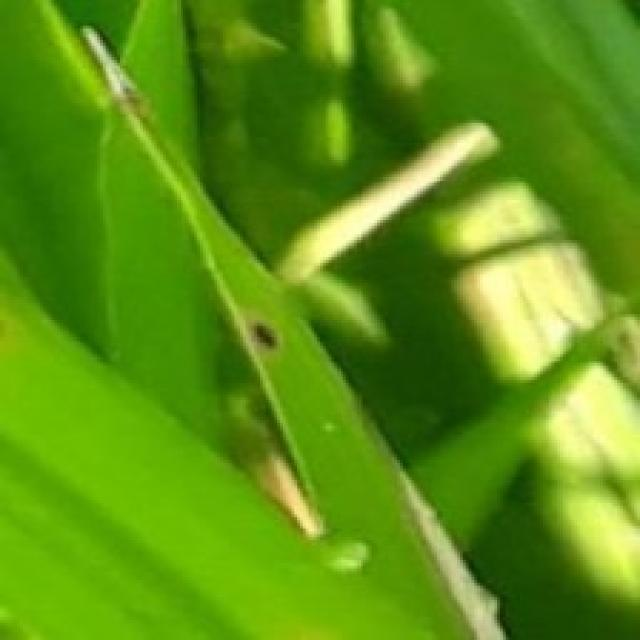Rice___Brown_Spot: (0, 29, 504, 637)
